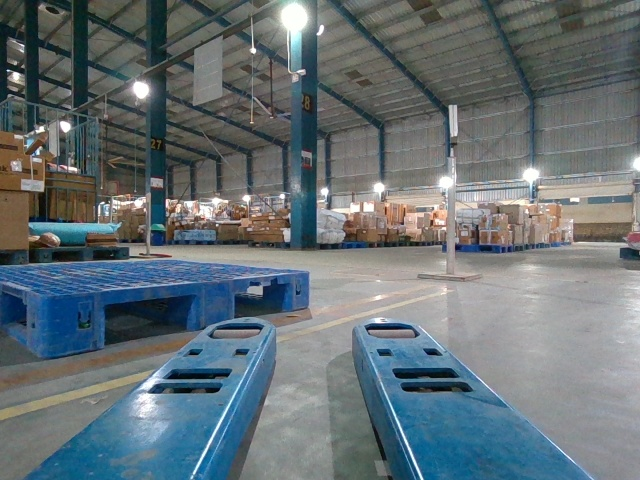block: (23, 291, 105, 361), (198, 278, 233, 332), (289, 268, 310, 310)
front: (45, 271, 309, 357)
hole pallet: (102, 291, 202, 347), (233, 279, 294, 318)
